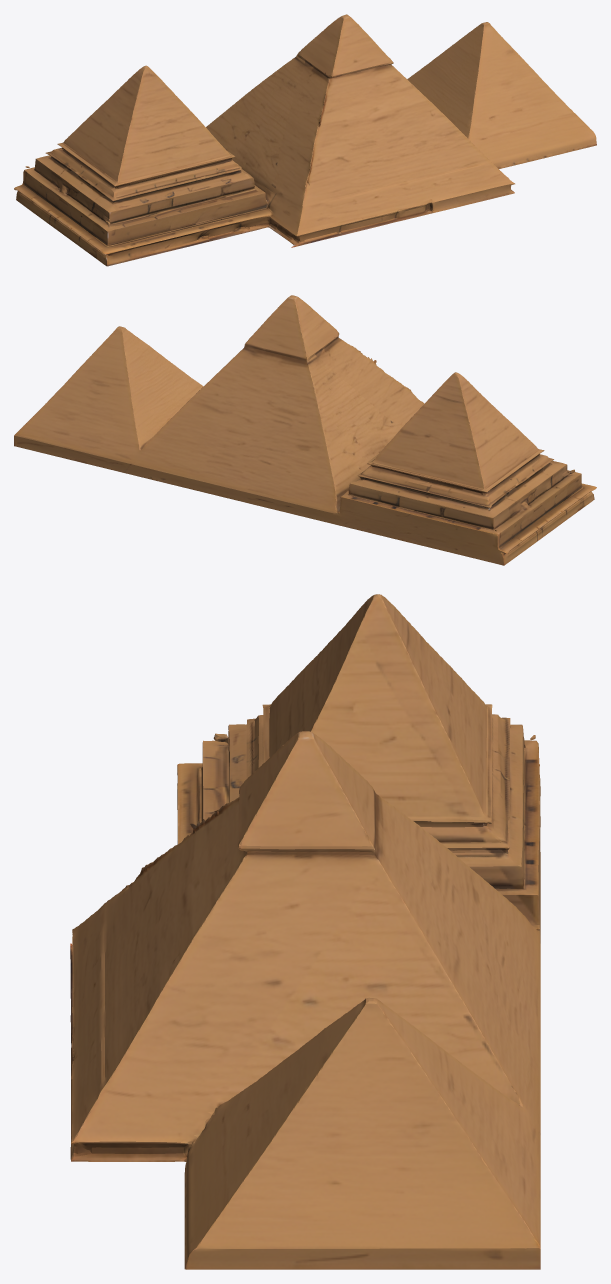
The model's file is great-pyramid-of-giza.glb.
The picture shows the model from 3 angles, top to bottom: view 1: azimuth 30°, elevation 25°; view 2: azimuth 150°, elevation 25°; view 3: azimuth 270°, elevation 25°; orthographic projection. The views are drawn at different scales.
Parts seen in each view (by area): view 1: Object_2; view 2: Object_2; view 3: Object_2.
Part boxes in pixels (box(x1,y1,x2,y2)): Object_2: box(14, 14, 596, 266); Object_2: box(14, 295, 596, 565); Object_2: box(70, 594, 540, 1269).
Bounding box in the file's own units: 1.9 × 0.5921 × 0.786.
1 material, 1 textured.
